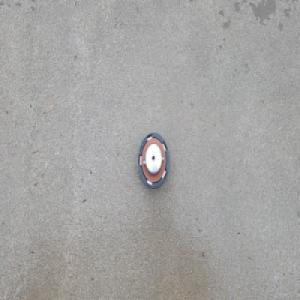FuelCap: (137, 130, 170, 190)
